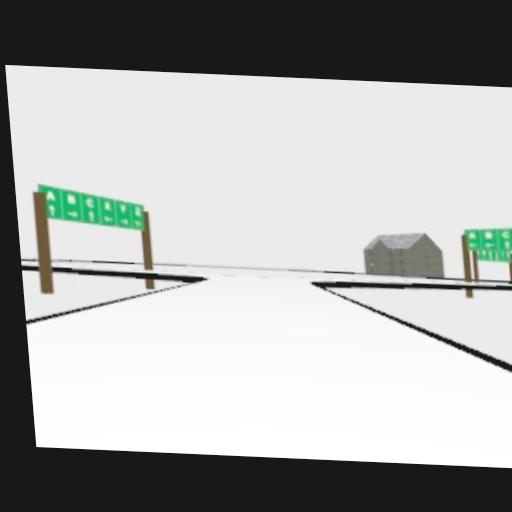A: (45, 188, 56, 201)
B: (67, 194, 78, 205)
C: (86, 196, 95, 208)
Left: (103, 214, 114, 224)
Right: (119, 217, 131, 226), (67, 210, 78, 219)
Straight: (47, 203, 56, 216), (88, 212, 97, 223)
X: (102, 201, 113, 211)
Y: (120, 205, 128, 215)
Z: (134, 206, 141, 217)
